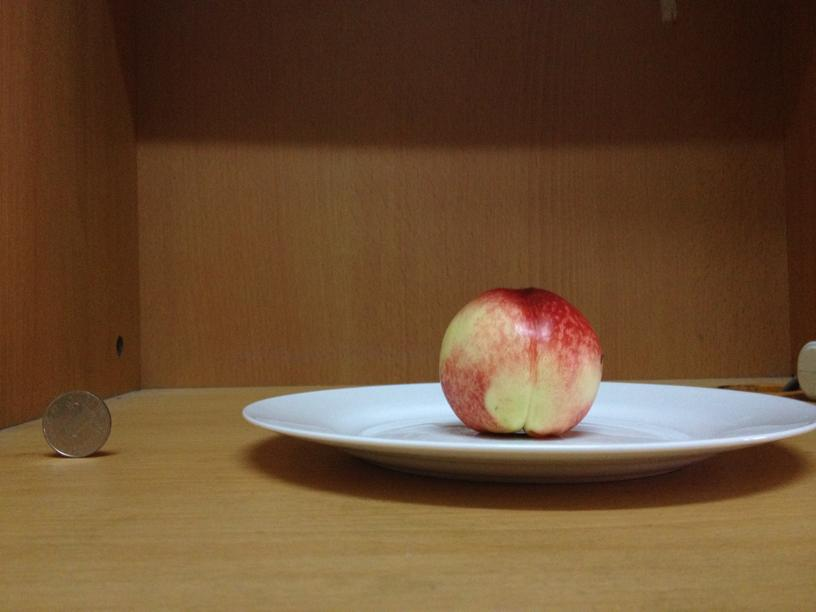coin: (41, 391, 112, 456)
peach: (439, 289, 601, 434)
